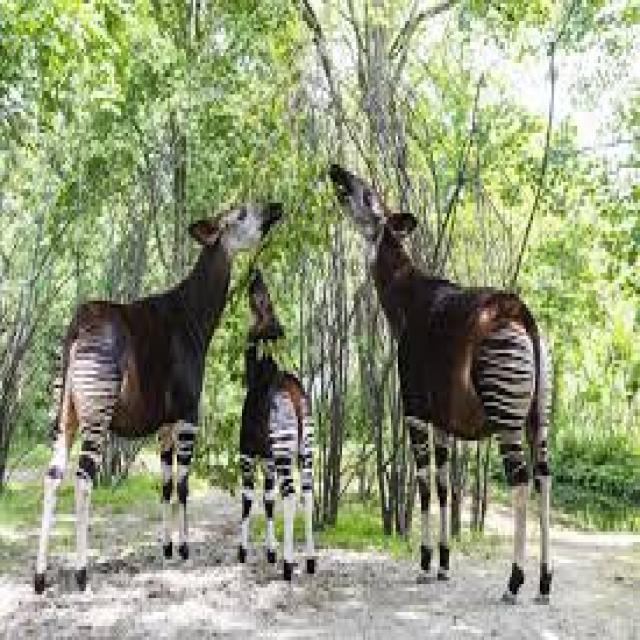Okapi: (325, 152, 558, 602), (32, 191, 286, 597), (236, 259, 329, 591)
